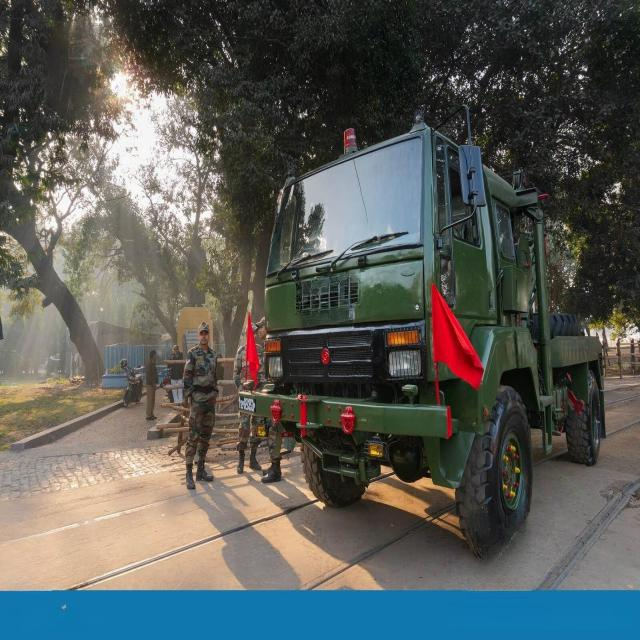truck: (240, 118, 606, 554)
